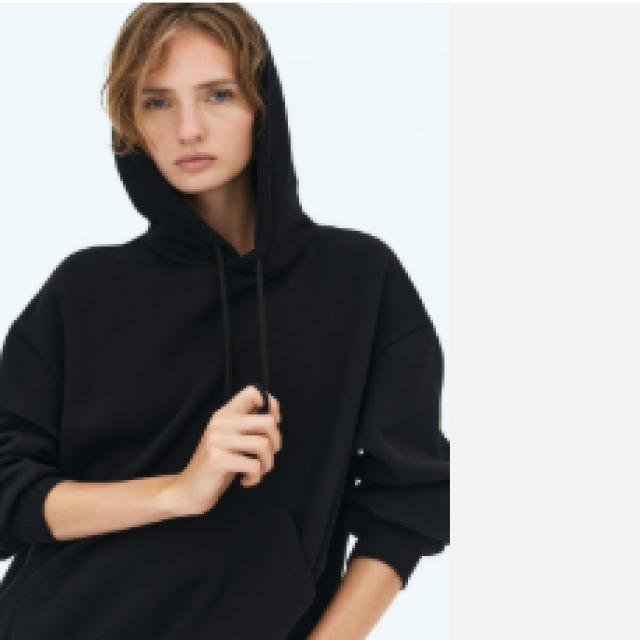4_capucha: (115, 58, 318, 273)
